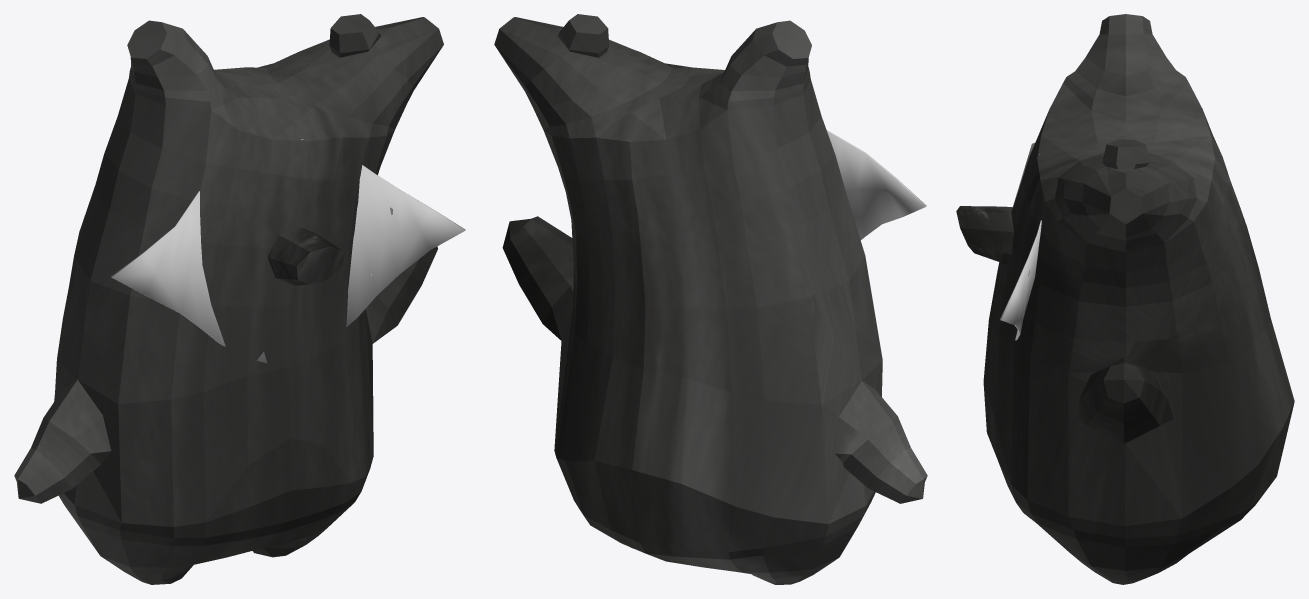
Rendered from frame_0055.obj.
The picture shows the model from 3 angles, left to right: view 1: azimuth 30°, elevation 25°; view 2: azimuth 150°, elevation 25°; view 3: azimuth 270°, elevation 25°; orthographic projection. The views are drawn at different scales.
Parts seen in each view (by area): view 1: korok, leaf, nose; view 2: korok, leaf; view 3: korok, nose, leaf.
Part boxes in pixels (box(x1,y1,x2,y2)): korok: box(14, 14, 443, 584); leaf: box(111, 139, 465, 363); nose: box(267, 227, 343, 285); korok: box(494, 14, 927, 584); leaf: box(826, 130, 926, 239); korok: box(983, 14, 1294, 584); nose: box(956, 206, 1013, 263); leaf: box(999, 142, 1041, 340).
Size of the model in its own units: 1.7 by 2.14 by 1.27.
